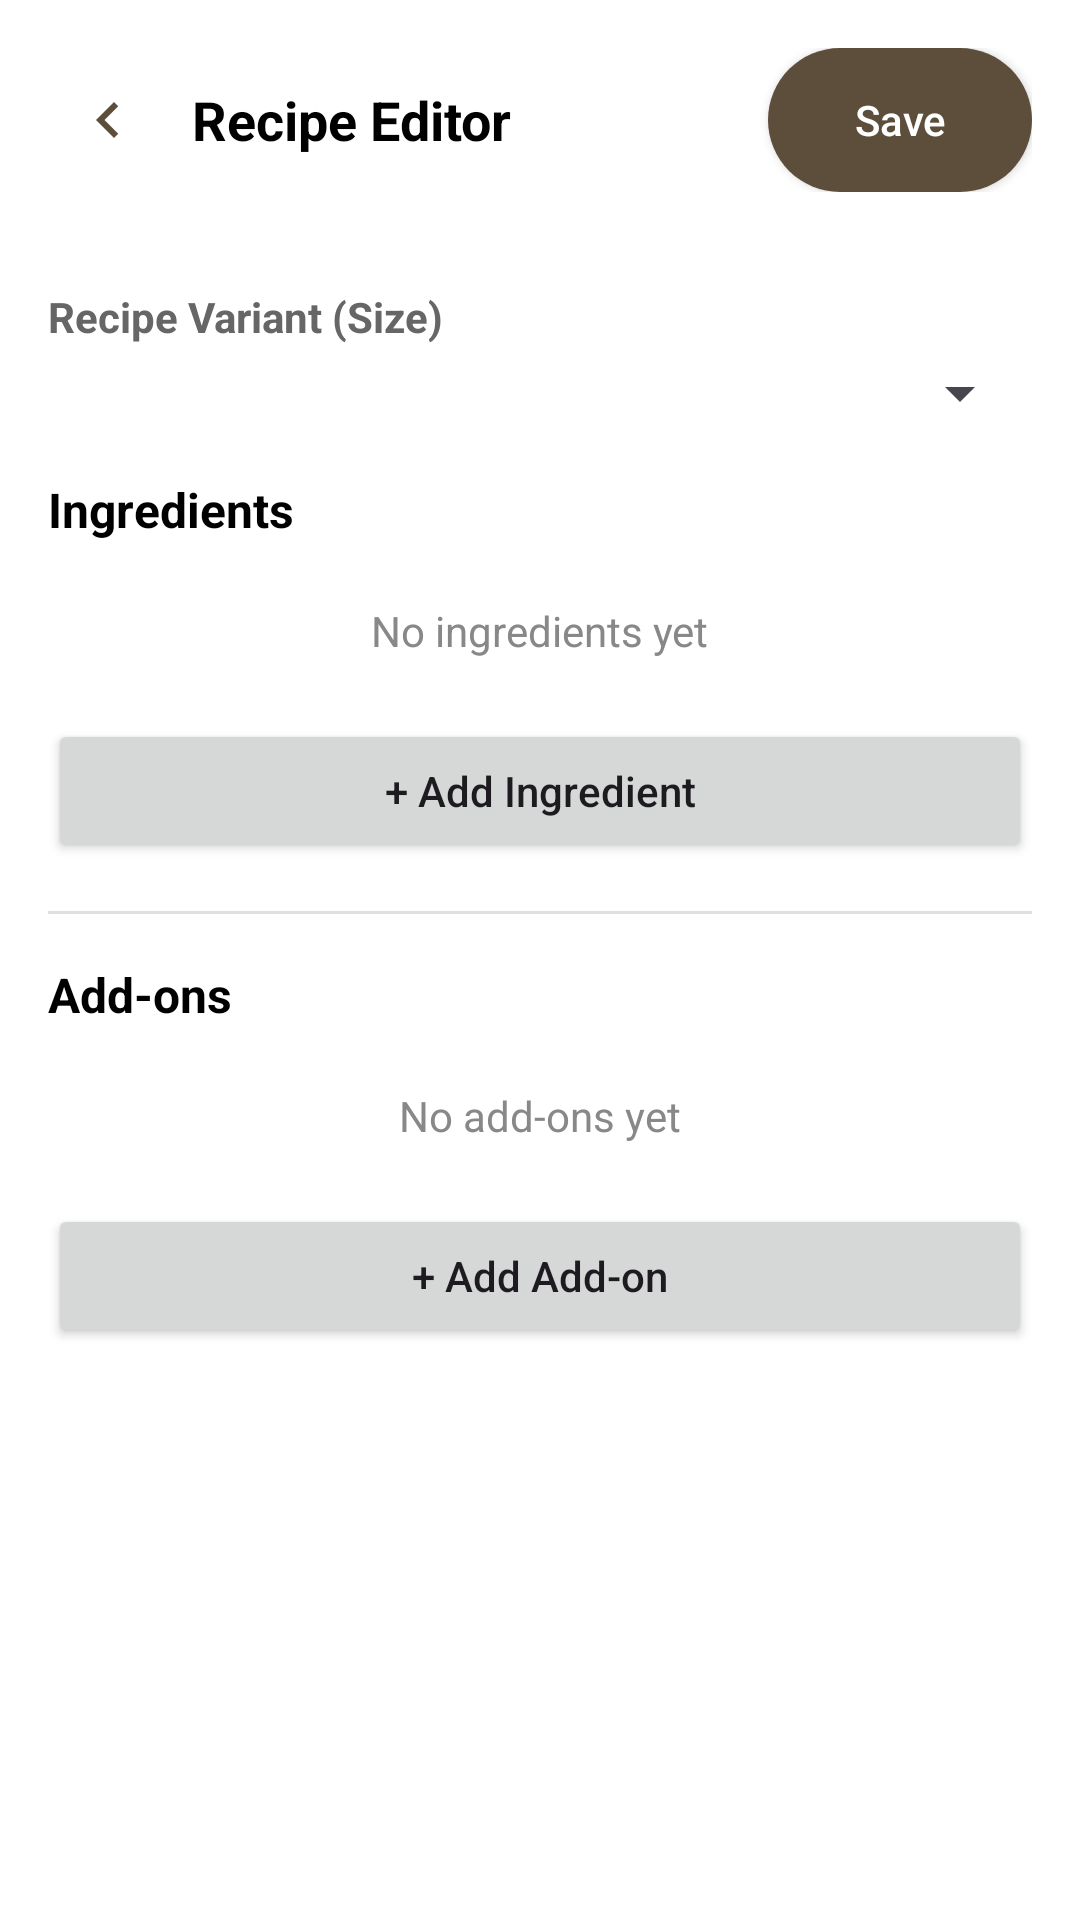

Icons on this 1080*1920 Android screen, each with its box as {"left": x1, "top": y1, "right": x2, "bottom": y2}:
Back: {"left": 96, "top": 102, "right": 118, "bottom": 138}
